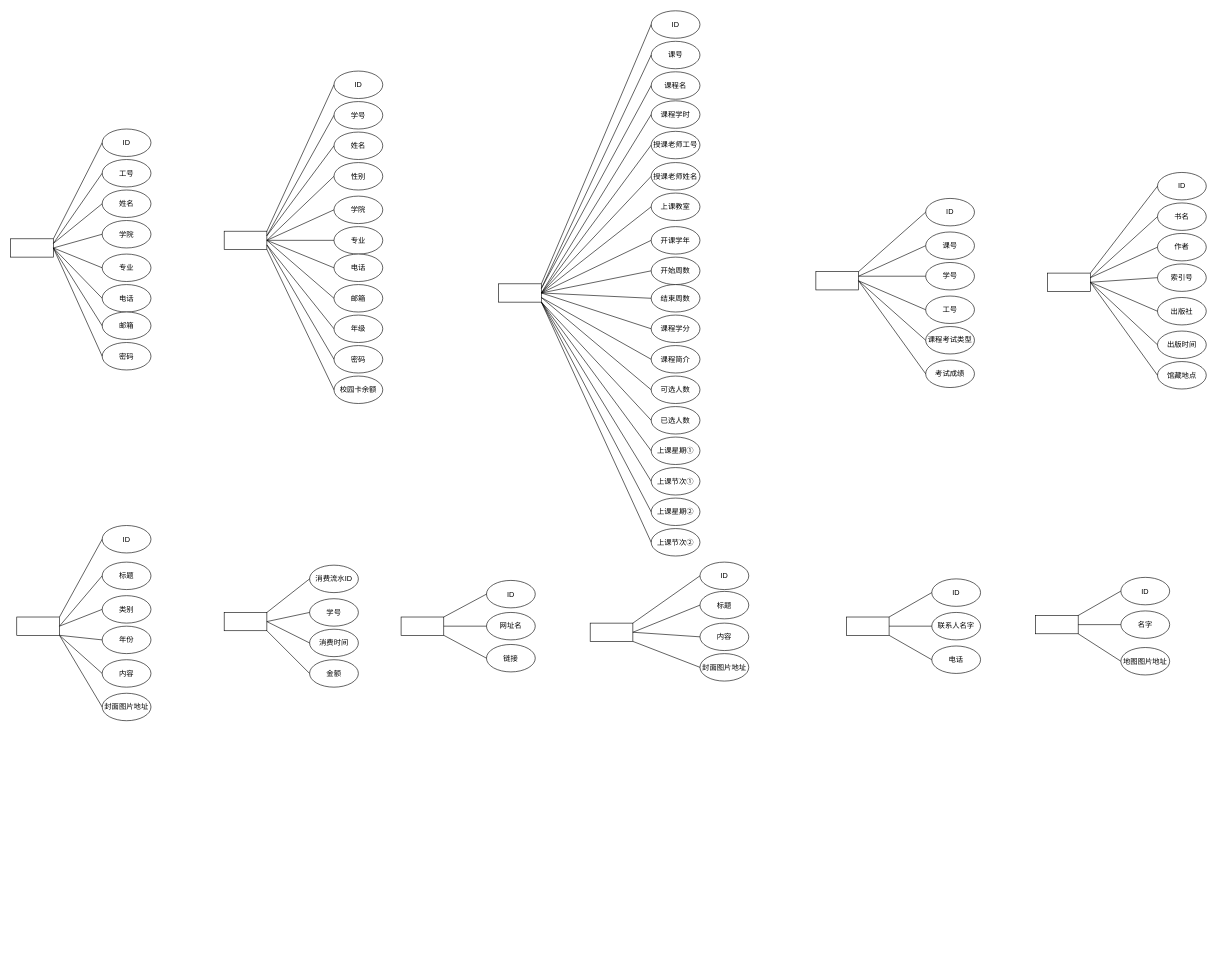
Some shapes in this 1217 by 972 pixel diagram are drawn without their labels. Here are the shapes that lost their labels. From the top down, the centre of each, then its label:
At point (31, 247): "教师表".
At point (245, 240): "学生表".
At point (519, 292): "课程表".
At point (837, 280): "选课表".
At point (1068, 281): "图书表".
At point (37, 625): "通知表".
At point (245, 621): "校园卡表".
At point (422, 625): "网址表".
At point (611, 632): "学校信息表".
At point (867, 625): "电话表".
At point (1056, 624): "地图表".
